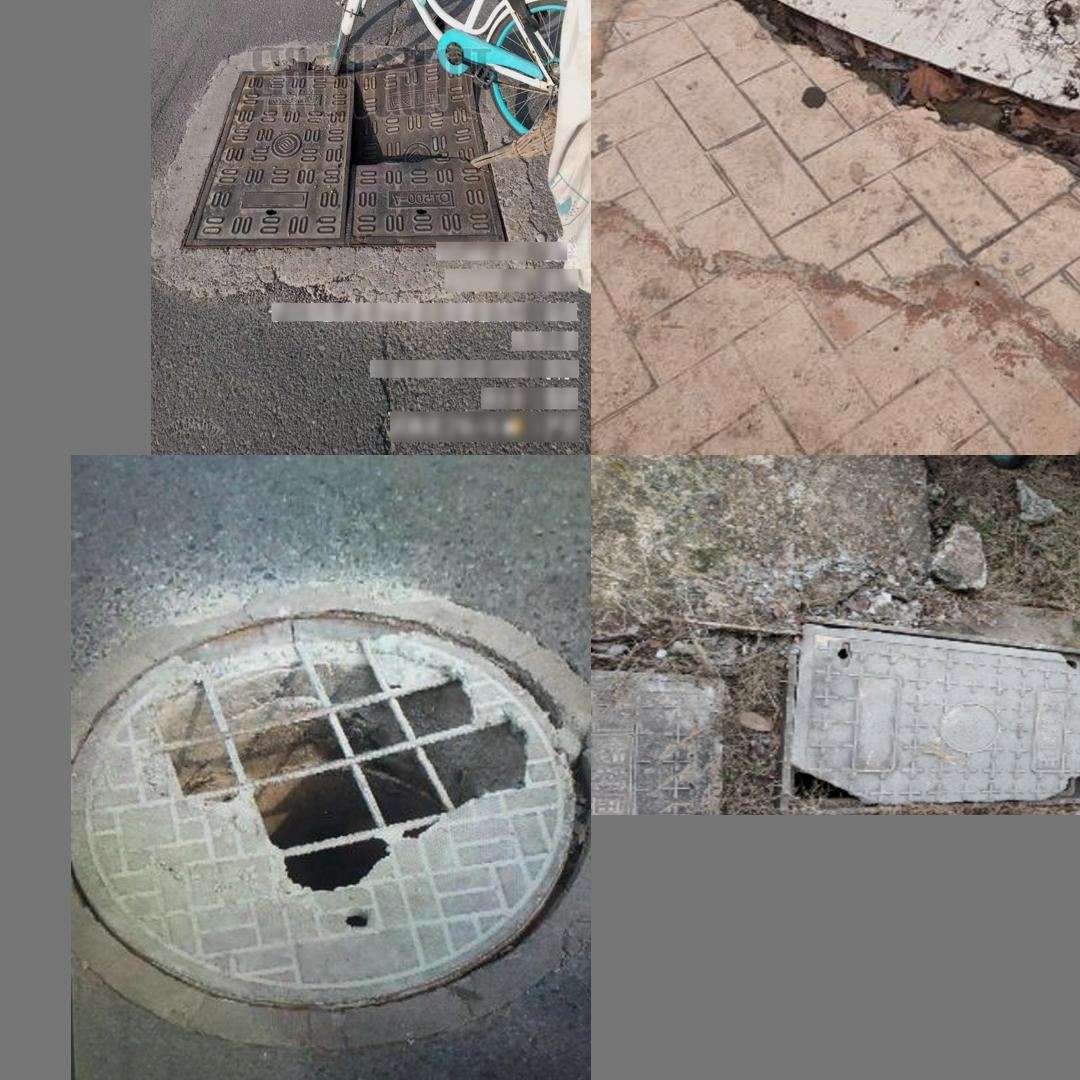broke: (75, 551, 579, 1039), (711, 0, 1080, 229), (179, 54, 511, 250), (771, 647, 1080, 805)
